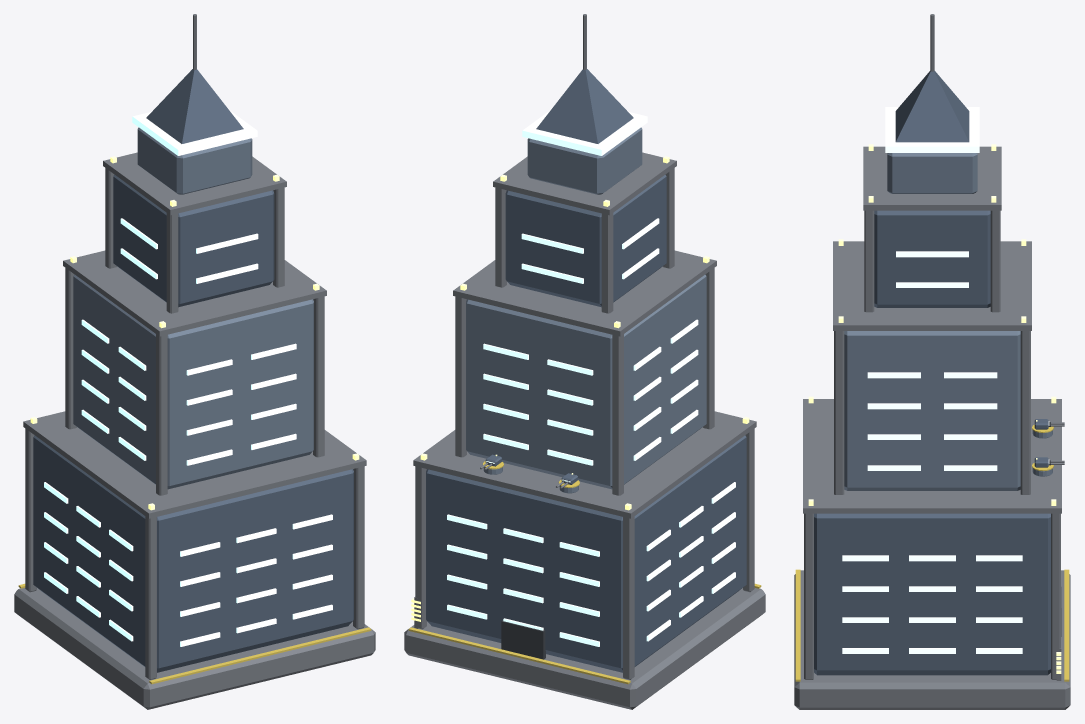
File: zone_high_1_t5.glb
3 views of the same model, side by side, from view 1: azimuth 30°, elevation 25°; view 2: azimuth 150°, elevation 25°; view 3: azimuth 270°, elevation 25° (orthographic). The views are drawn at different scales.
Parts seen in each view (by area): view 1: zone_high_1_t5, detail; view 2: zone_high_1_t5, detail; view 3: zone_high_1_t5, detail.
Part boxes in pixels (x1,y1,x2,y2): zone_high_1_t5: (14,69,375,709); detail: (18,14,371,684); zone_high_1_t5: (404,69,765,709); detail: (408,14,761,684); zone_high_1_t5: (794,71,1070,709); detail: (795,14,1069,681).
Size of the model in its own units: 27.5 by 70.25 by 27.5.
